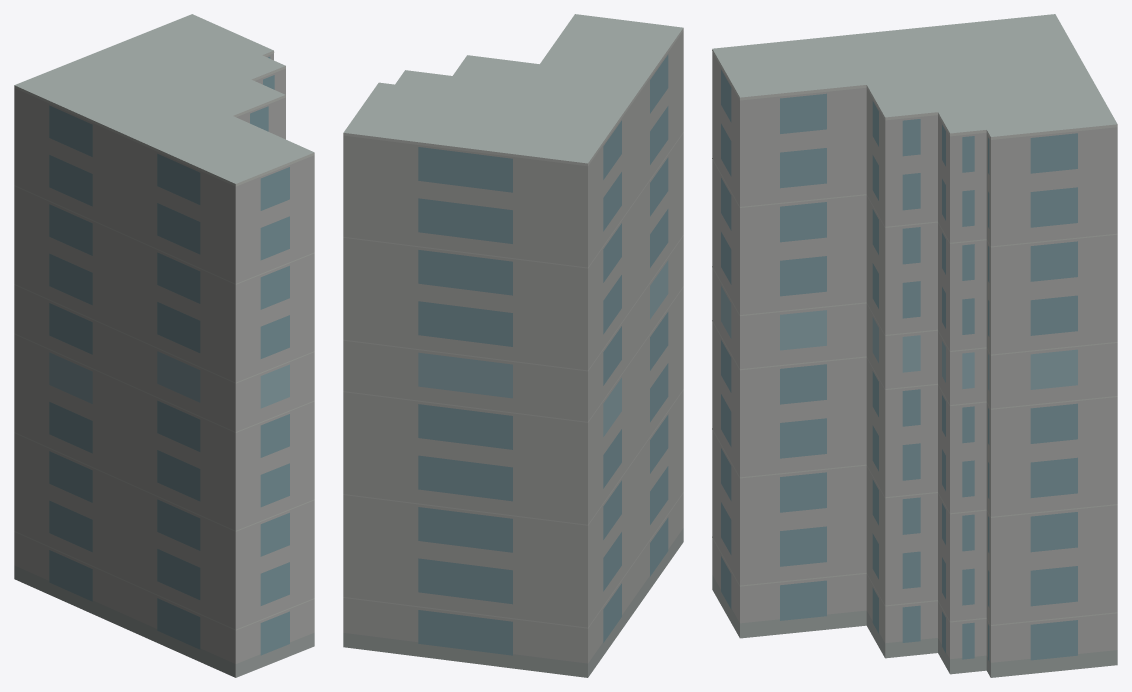
Rendered from residential-31c865c0-8048-4bef-a449-1484d8114682.glb.
3 views of the same model, side by side, from view 1: azimuth 30°, elevation 25°; view 2: azimuth 150°, elevation 25°; view 3: azimuth 270°, elevation 25° (orthographic). The views are drawn at different scales.
Parts seen in each view (by area): view 1: residential-31c865c0-8048-4bef-a449-1484d8114682.tmp; view 2: residential-31c865c0-8048-4bef-a449-1484d8114682.tmp; view 3: residential-31c865c0-8048-4bef-a449-1484d8114682.tmp.
Part boxes in pixels (<box>): residential-31c865c0-8048-4bef-a449-1484d8114682.tmp: <box>14,14,314,677</box>; residential-31c865c0-8048-4bef-a449-1484d8114682.tmp: <box>343,14,683,677</box>; residential-31c865c0-8048-4bef-a449-1484d8114682.tmp: <box>712,14,1117,677</box>.
Size of the model in its own units: 21.99 by 45 by 30.6.
